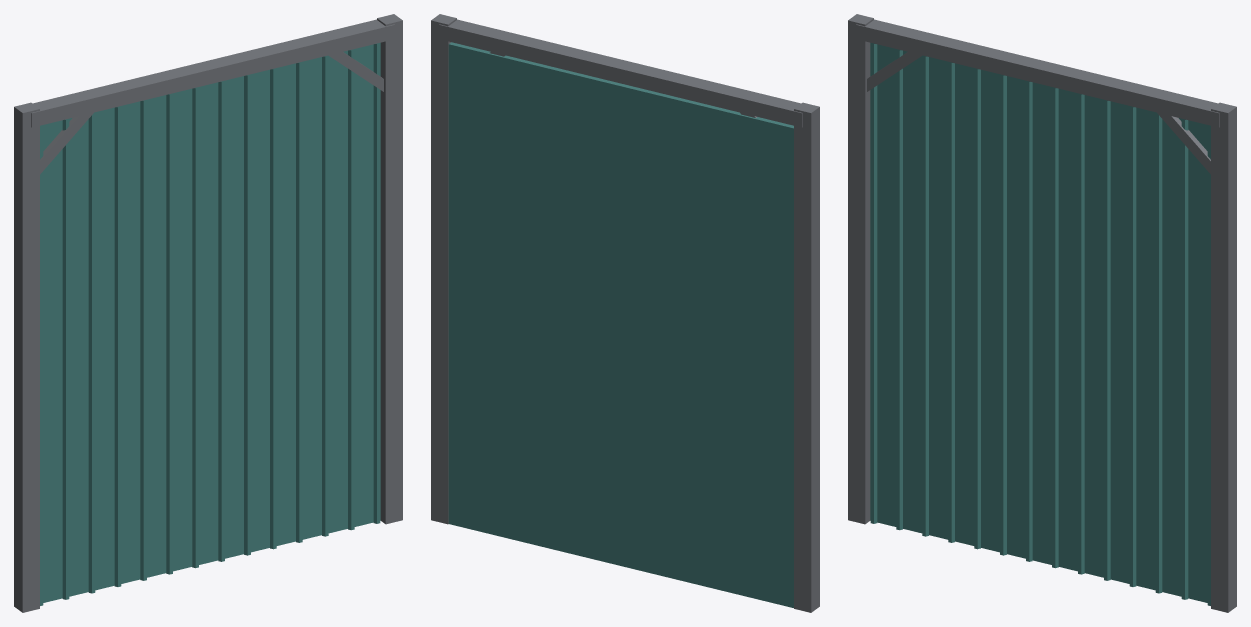
Rendered from steampunk-airship-dock-and-workshop-shed-wall-panel-13e7ce7b.glb.
The picture shows the model from 3 angles, left to right: view 1: azimuth 30°, elevation 25°; view 2: azimuth 150°, elevation 25°; view 3: azimuth 330°, elevation 25°; orthographic projection.
Visible parts, largest first — view 1: shed-wall-panel; view 2: shed-wall-panel; view 3: shed-wall-panel.
Boxes of the visible parts, bbox=[...] form: shed-wall-panel: bbox=[14, 14, 402, 612]; shed-wall-panel: bbox=[431, 14, 819, 612]; shed-wall-panel: bbox=[848, 14, 1236, 612].
Size of the model in its own units: 3.98 by 5 by 0.1801.
